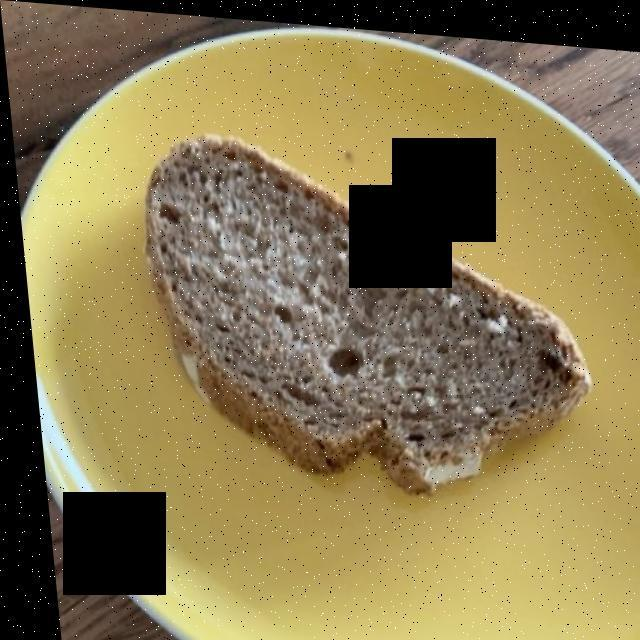bread: (143, 140, 576, 482)
